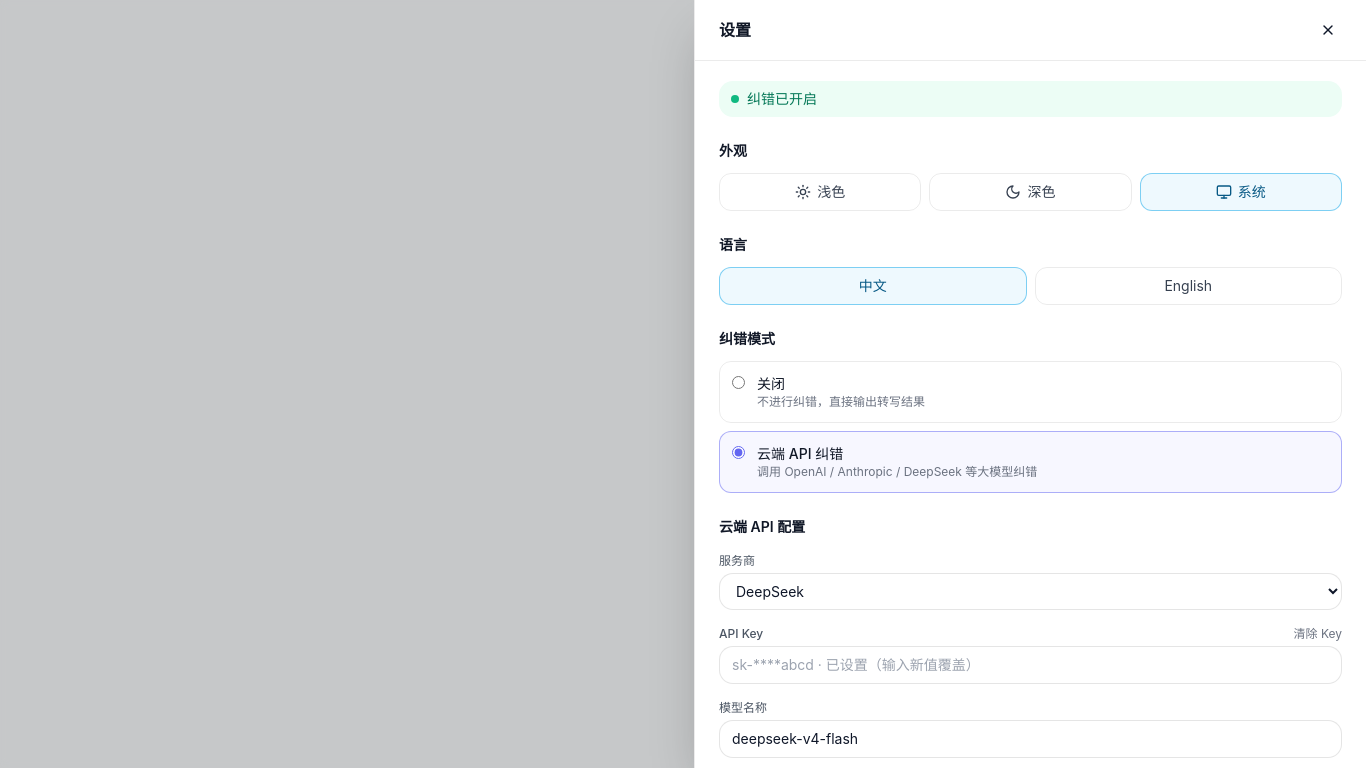
SettingsPanel saves as you go › saves a mode change immediately and reports correction state
The width and height of the screenshot is (1366, 768).
Expected: the field showing "deepseek-v4-flash" is shown, x1=719 y1=720 x2=1342 y2=758
What coordinates should you click on to do the following:
click the radio button labelled "关闭 不进行纠错，直接输出转写结果"
I would click on:
 (738, 382)
Its box is x1=732 y1=376 x2=745 y2=389.
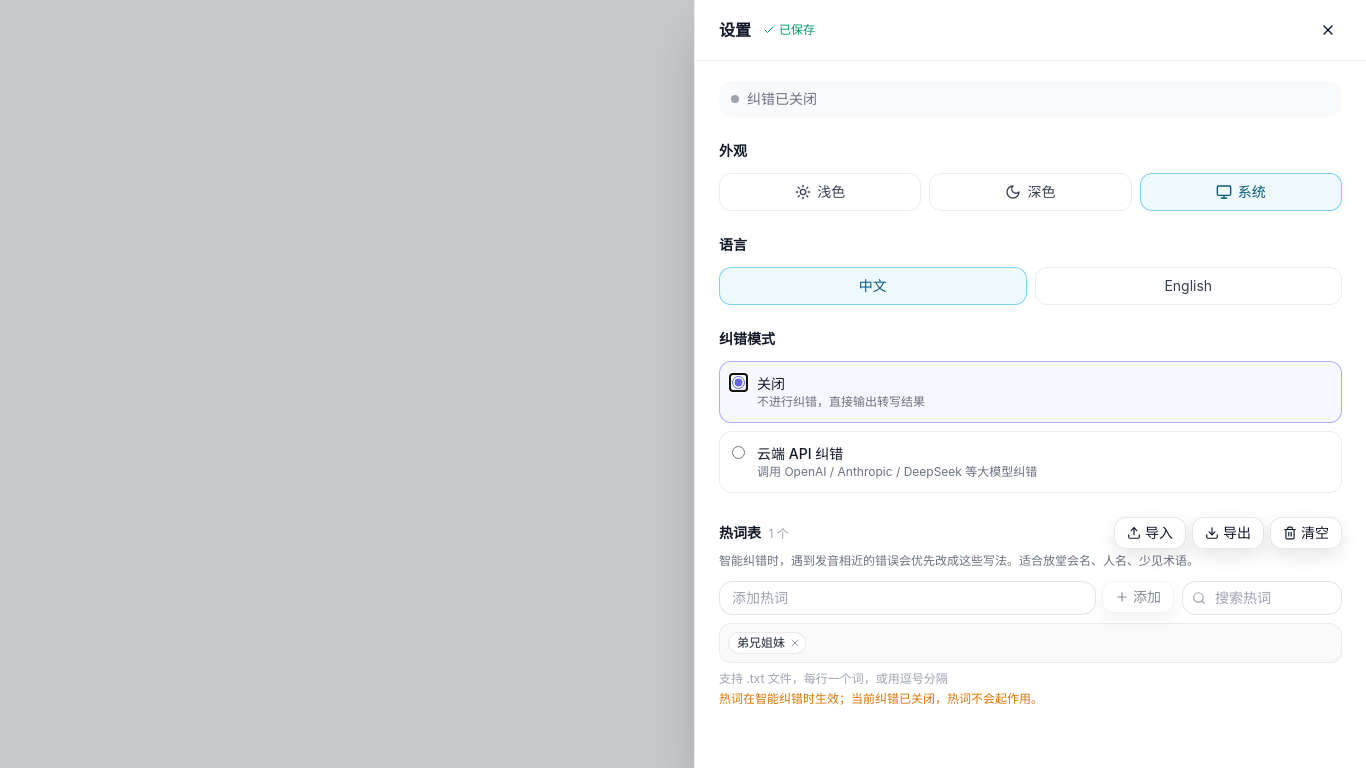
Result: the text "已保存" is shown at x1=763 y1=22 x2=815 y2=38
